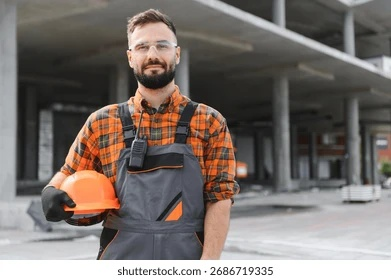safety_goggles: (122, 35, 189, 59)
